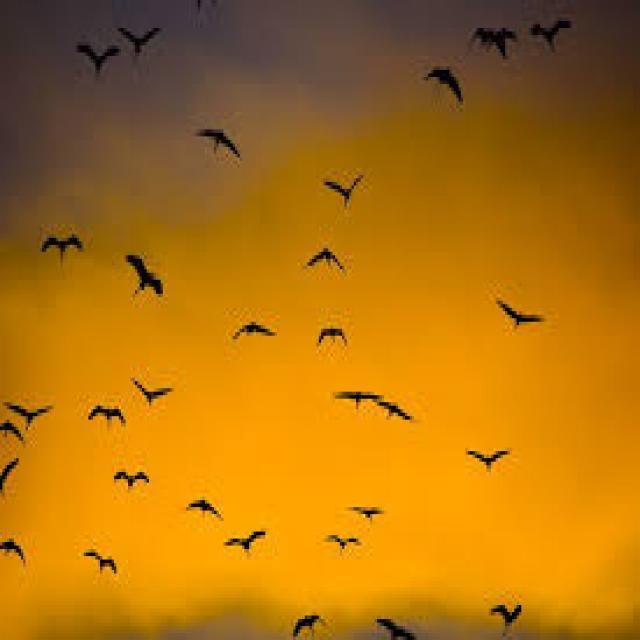bird: (453, 430, 514, 479), (478, 7, 520, 77), (421, 61, 472, 117), (122, 250, 172, 307), (532, 0, 579, 59), (318, 164, 370, 213), (196, 115, 246, 164), (366, 598, 424, 640), (292, 591, 339, 640), (330, 378, 382, 422), (494, 294, 545, 338), (112, 22, 168, 62), (303, 239, 353, 282), (32, 228, 88, 265), (372, 392, 414, 441), (77, 40, 123, 83), (482, 592, 530, 632), (80, 542, 124, 584), (326, 519, 366, 565), (307, 315, 354, 353), (6, 393, 61, 425), (132, 371, 180, 407), (82, 398, 130, 434), (349, 493, 393, 532), (224, 522, 270, 558), (109, 464, 162, 492), (227, 314, 278, 342), (179, 492, 225, 523), (0, 454, 30, 500), (0, 534, 26, 582), (0, 418, 33, 442)
